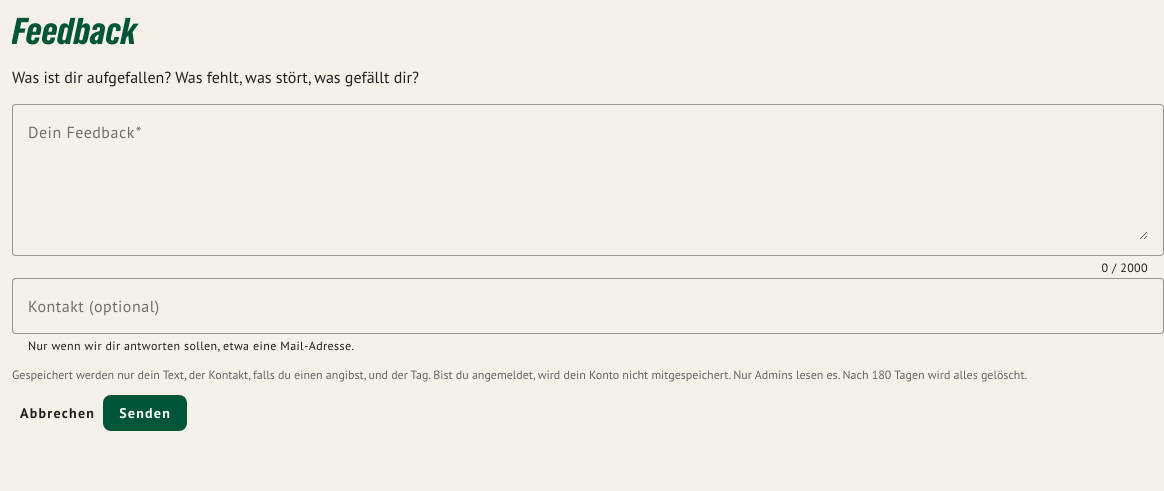
FeedbackDialogComponent › behaelt den Text, wenn das Senden scheitert
Type "Mein langer Text" into the text box named "text" at (588, 180), box [28,120,1148,240]
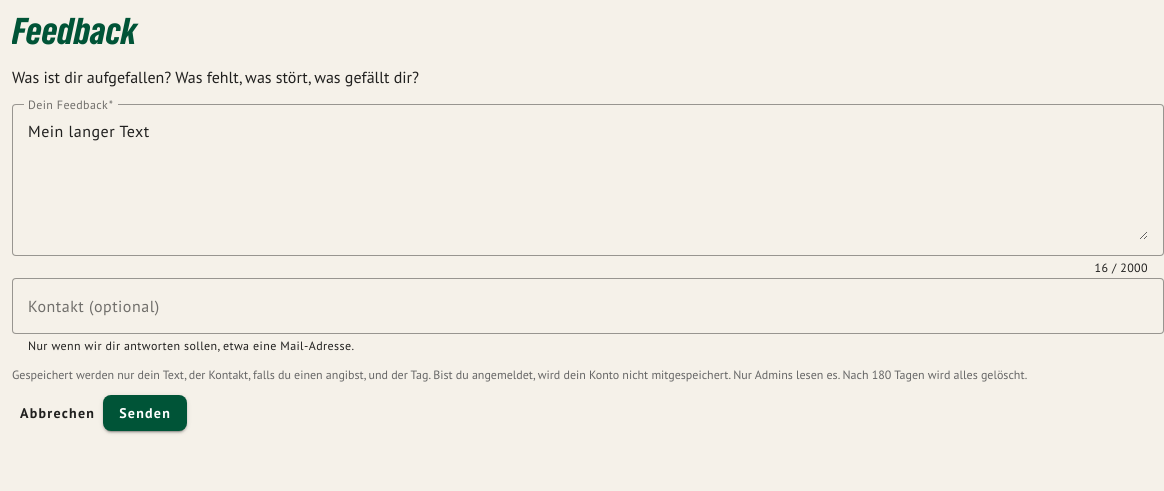
Click the button with test id "feedback-senden" at (145, 413), box [103,395,187,431]
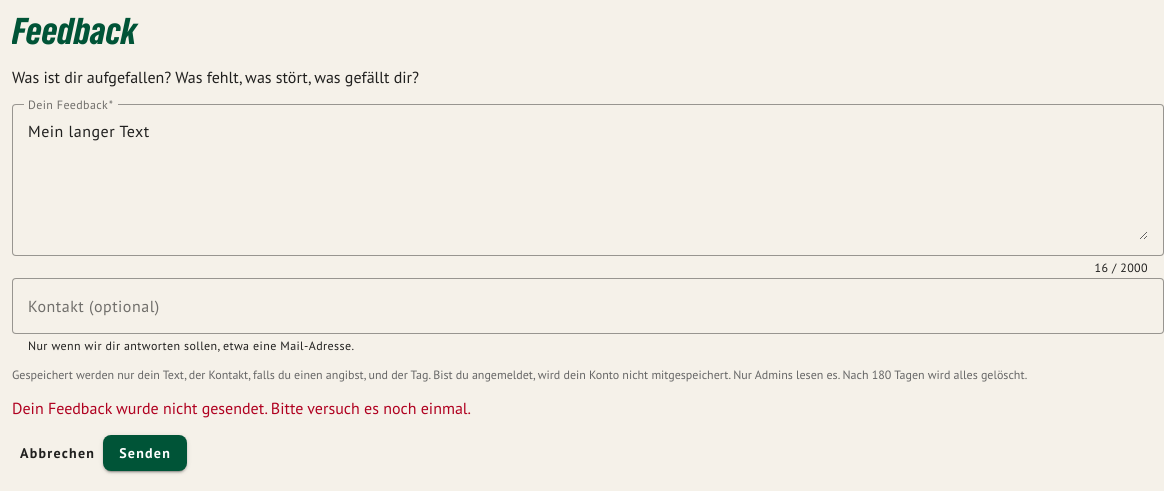
Check: the text "nicht gesendet" is shown, box [12,400,471,418]
